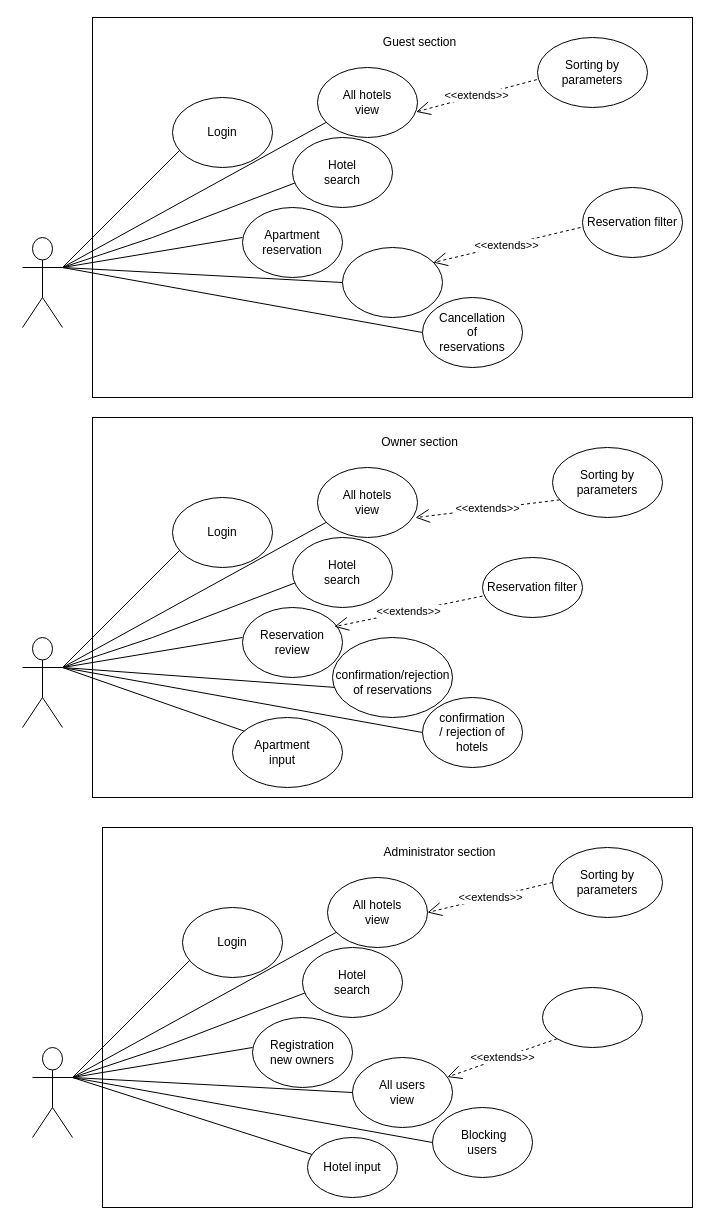
The diagram is 710 pixels wide and 1225 high, and some of its shapes have lost their labels. Here are the shapes that lost their labels. From the top down, the centre of each, then its label:
At point (42, 282): "Guest".
At point (392, 282): "Review of all apartments".
At point (42, 682): "Owner".
At point (592, 1017): "Owner/guest filter".
At point (52, 1092): "Administrator".
